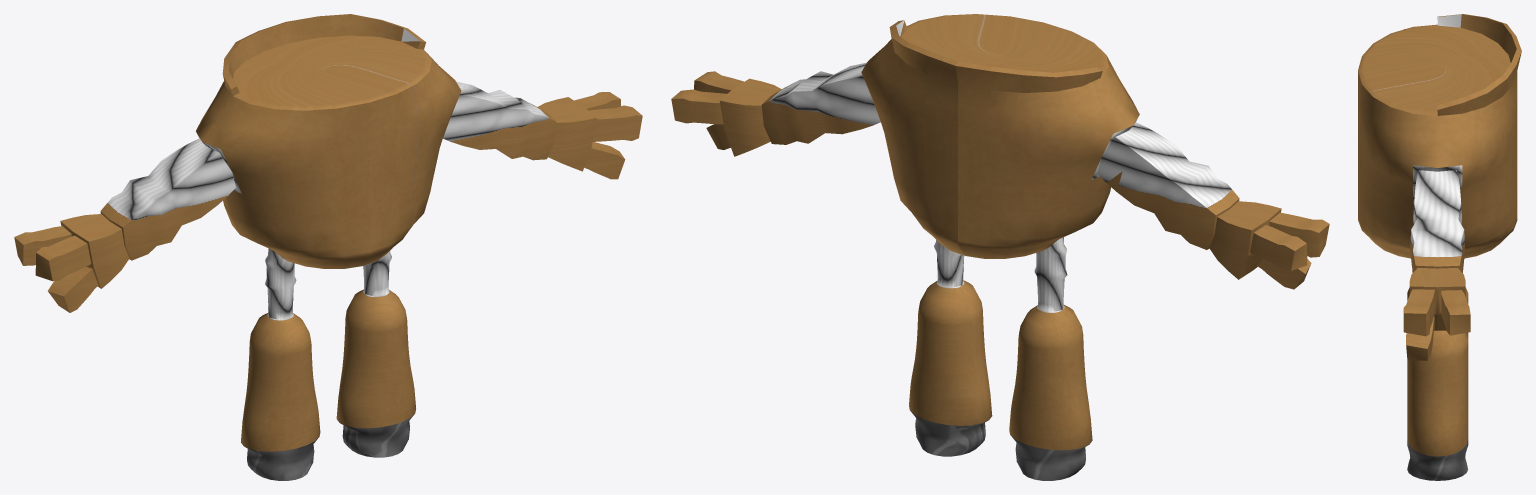
The model's file is rossK_P04_5_mech.fbx.
3 views of the same model, side by side, from view 1: azimuth 30°, elevation 25°; view 2: azimuth 150°, elevation 25°; view 3: azimuth 270°, elevation 25° (orthographic). The views are drawn at different scales.
Visible parts, largest first — view 1: mech; view 2: mech; view 3: mech.
Boxes of the visible parts, x1=… form: mech: x1=14, y1=14, x2=642, y2=480; mech: x1=671, y1=14, x2=1329, y2=480; mech: x1=1358, y1=14, x2=1521, y2=480.
Size of the model in its own units: 22.23 by 14.4 by 5.38.
